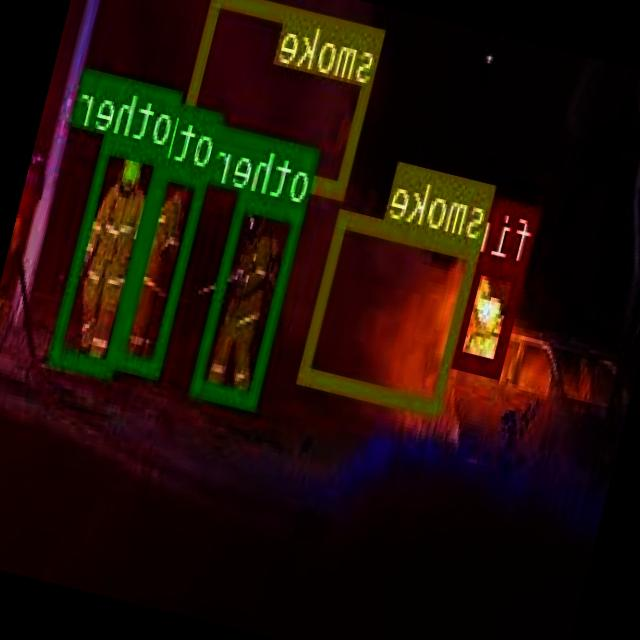fire: (450, 254, 529, 376)
smoke: (174, 0, 387, 195), (298, 206, 484, 414)
